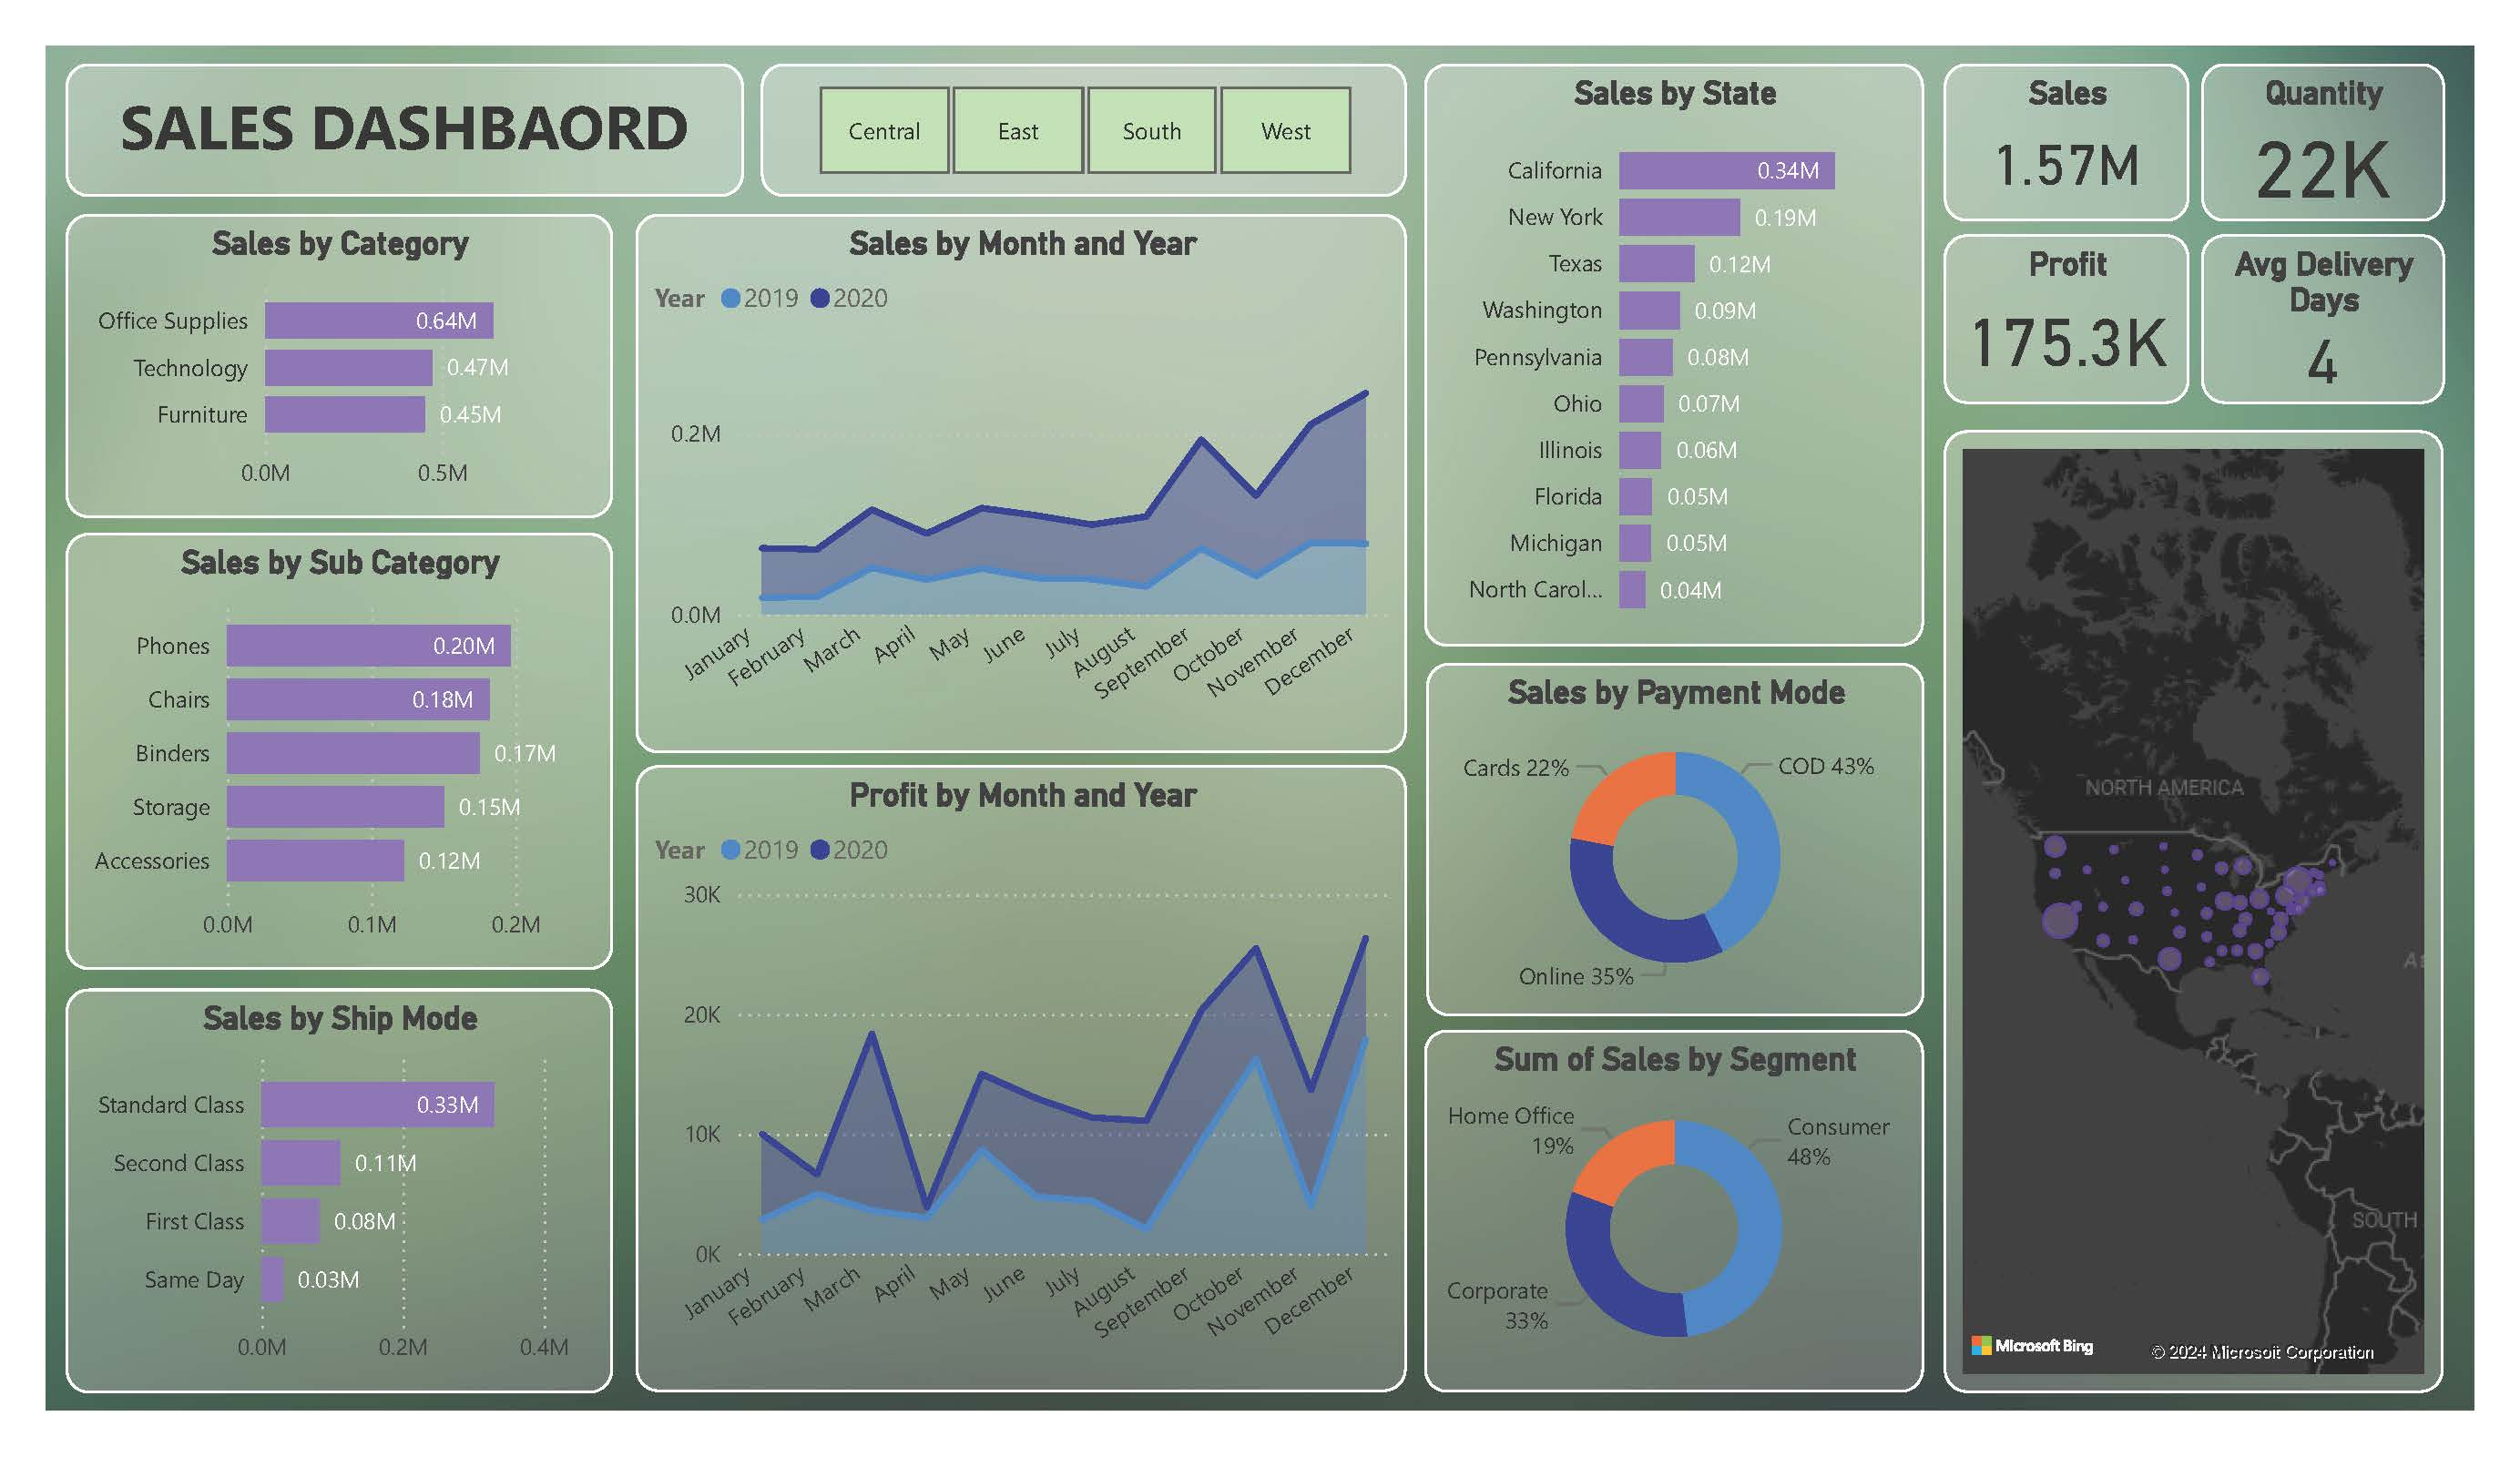

The dashboard page shown, as its layout file describes it:
{"tool":"powerbi","page":{"name":"Page 1","canvas":[1280,720],"ordinal":0},"visuals":[{"type":"clusteredBarChart","title":"Sales by Category","fields":{"Category":["SuperStore_Sales_Dataset.Category"],"Y":["Sum(SuperStore_Sales_Dataset.Sales)"]},"box":[11.2,88.8,287.5,160],"z":0},{"type":"textbox","box":[11.2,10,706.2,68.8],"z":1000},{"type":"clusteredBarChart","title":"Sales by Sub Category","fields":{"Category":["SuperStore_Sales_Dataset.Sub-Category"],"Y":["Sum(SuperStore_Sales_Dataset.Sales)"]},"box":[11.2,257.5,287.5,230],"z":2000},{"type":"clusteredBarChart","title":"Sales by Ship Mode","fields":{"Category":["SuperStore_Sales_Dataset.Ship Mode"],"Y":["Sum(SuperStore_Sales_Dataset.Sales)"]},"box":[11.2,497.5,287.5,212.5],"z":3000},{"type":"stackedAreaChart","title":"Sales by Month and Year","fields":{"Y":["Sum(SuperStore_Sales_Dataset.Sales)"],"Category":["SuperStore_Sales_Dataset.Order Date.Variation.Date Hierarchy.Month"],"Series":["SuperStore_Sales_Dataset.Order Date.Variation.Date Hierarchy.Year"]},"box":[311.2,88.8,406.2,283.8],"z":4000},{"type":"stackedAreaChart","title":"Profit by Month and Year","fields":{"Category":["SuperStore_Sales_Dataset.Order Date.Variation.Date Hierarchy.Month"],"Series":["SuperStore_Sales_Dataset.Order Date.Variation.Date Hierarchy.Year"],"Y":["Sum(SuperStore_Sales_Dataset.Profit)"]},"box":[311.2,380,406.2,330],"z":5000},{"type":"map","title":"Sales and Sum of Profit by State","fields":{"Category":["SuperStore_Sales_Dataset.State"],"Size":["Sum(SuperStore_Sales_Dataset.Sales)"]},"box":[1001.2,11.2,272.5,361.2],"z":6000},{"type":"donutChart","fields":{"Y":["Sum(SuperStore_Sales_Dataset.Sales)"],"Category":["SuperStore_Sales_Dataset.Segment"]},"box":[1001.2,380,272.5,330],"z":7000},{"type":"donutChart","title":"Sales by Payment Mode","fields":{"Y":["Sum(SuperStore_Sales_Dataset.Sales)"],"Category":["SuperStore_Sales_Dataset.Payment Mode"]},"box":[727.5,380,263.8,330],"z":8000},{"type":"slicer","fields":{"Values":["SuperStore_Sales_Dataset.Region"]},"box":[728.8,10,263.8,118.8],"z":9000},{"type":"card","title":"Sales","fields":{"Values":["Sum(SuperStore_Sales_Dataset.Sales)"]},"box":[727.5,141.2,128.8,107.5],"z":9001},{"type":"card","title":"Profit","fields":{"Values":["Sum(SuperStore_Sales_Dataset.Profit)"]},"box":[727.5,257.5,128.8,115],"z":9002},{"type":"card","title":"Quantity","fields":{"Values":["Sum(SuperStore_Sales_Dataset.Quantity)"]},"box":[863.8,141.2,127.5,107.5],"z":9003},{"type":"card","title":"Avg Delivery Days","fields":{"Values":["Avg(SuperStore_Sales_Dataset.Avg Delivery Days)"]},"box":[863.8,257.5,127.5,115],"z":9004}]}

Visuals, with their boxes on the page's 1280x720 design canvas (x1, y1, x2, y2). These are canvas units, not pixel positions in the 2520x1457 screenshot, which may show the page scaled, cropped or inside an application window:
"Sales by Category" clusteredBarChart: (11, 89, 299, 249)
textbox: (11, 10, 717, 79)
"Sales by Sub Category" clusteredBarChart: (11, 258, 299, 488)
"Sales by Ship Mode" clusteredBarChart: (11, 498, 299, 710)
"Sales by Month and Year" stackedAreaChart: (311, 89, 717, 373)
"Profit by Month and Year" stackedAreaChart: (311, 380, 717, 710)
"Sales and Sum of Profit by State" map: (1001, 11, 1274, 372)
donutChart - Sum(SuperStore_Sales_Dataset.Sales) x SuperStore_Sales_Dataset.Segment: (1001, 380, 1274, 710)
"Sales by Payment Mode" donutChart: (728, 380, 991, 710)
slicer - SuperStore_Sales_Dataset.Region: (729, 10, 993, 129)
"Sales" card: (728, 141, 856, 249)
"Profit" card: (728, 258, 856, 372)
"Quantity" card: (864, 141, 991, 249)
"Avg Delivery Days" card: (864, 258, 991, 372)
